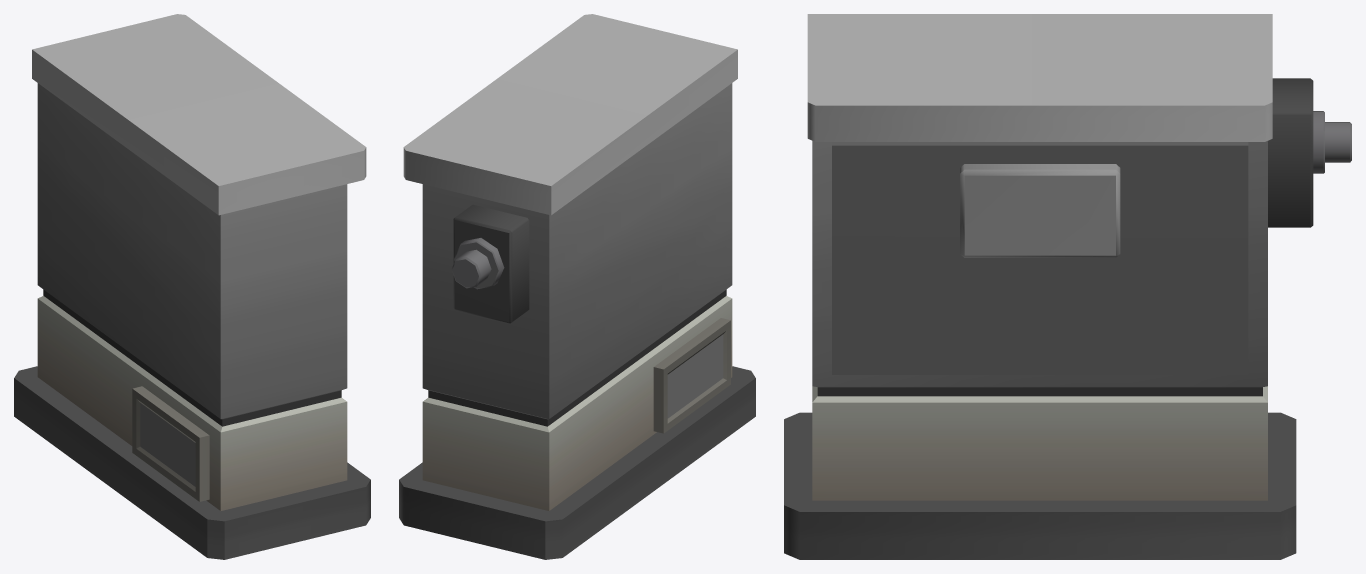
The model's file is Prop_1_B.fbx.
3 renders of one model, left to right at view 1: azimuth 30°, elevation 25°; view 2: azimuth 150°, elevation 25°; view 3: azimuth 270°, elevation 25°, orthographic. The views are drawn at different scales.
Parts seen in each view (by area): view 1: Prop_1_B; view 2: Prop_1_B; view 3: Prop_1_B.
Part boxes in pixels (x1,y1,x2,y2): Prop_1_B: [14, 14, 370, 559]; Prop_1_B: [399, 14, 755, 559]; Prop_1_B: [784, 14, 1351, 559].
Bounding box in the file's own units: 76.56 × 161 × 182.
